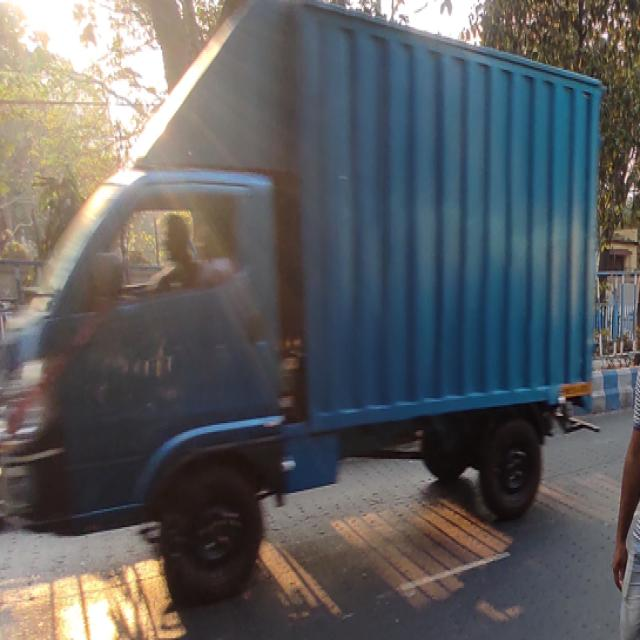minitruck: (5, 2, 599, 597)
